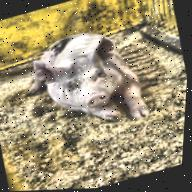boar: (10, 17, 159, 150)
